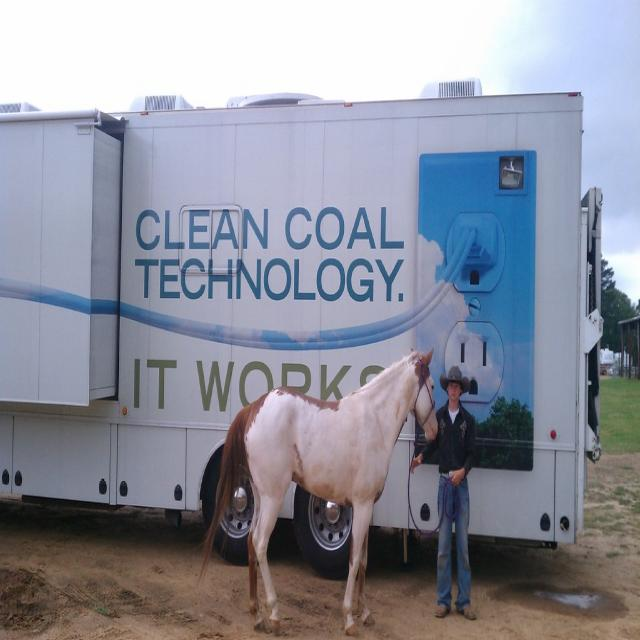Horse: (195, 347, 439, 637)
